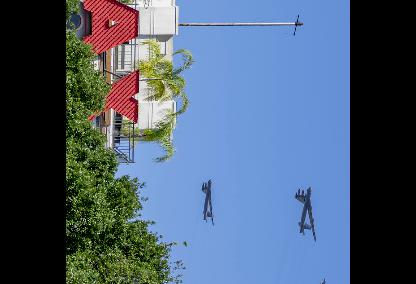B2: (295, 185, 317, 241), (202, 177, 214, 225)
F117: (318, 276, 327, 283)
